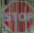Stop: (2, 2, 33, 30)
